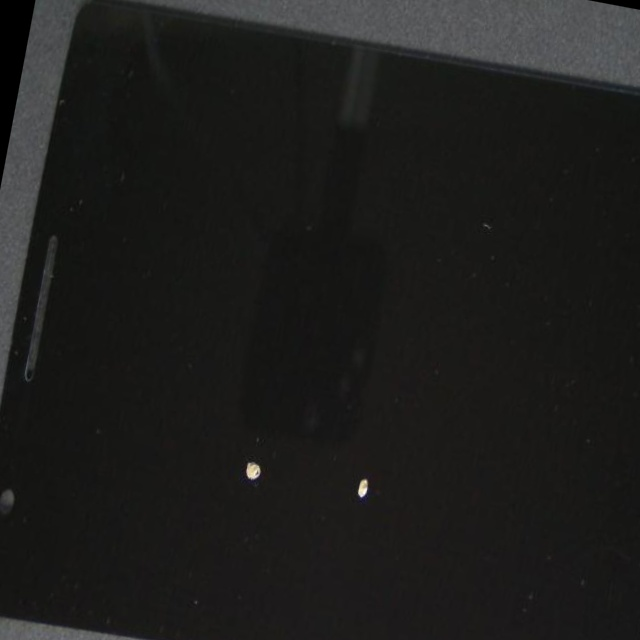stain: (116, 129, 600, 640), (31, 123, 434, 640), (358, 119, 640, 371)
